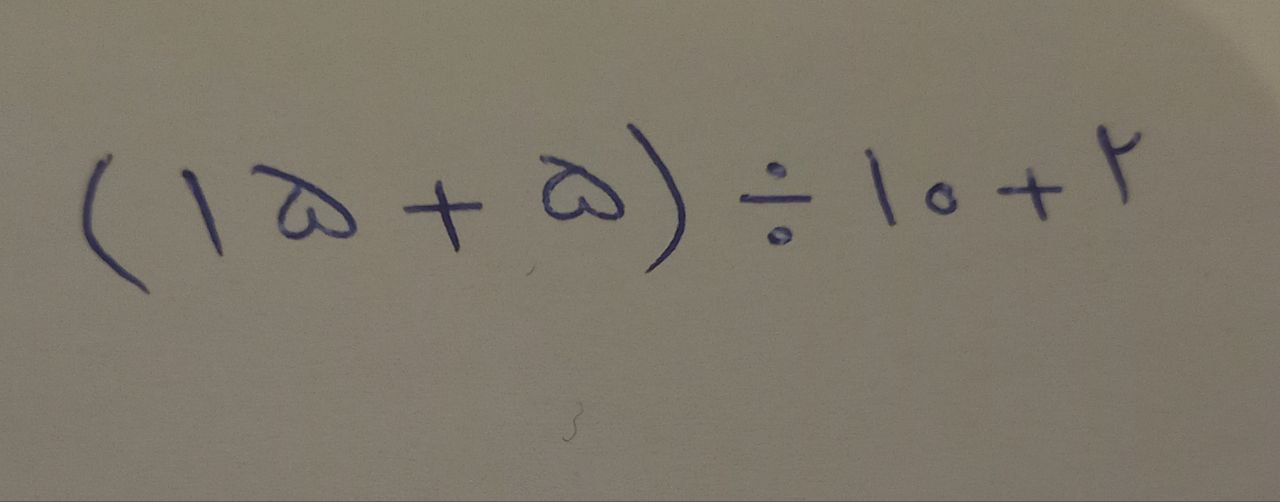character: (80, 153, 155, 301), (628, 121, 688, 277), (249, 165, 358, 244), (740, 162, 819, 255), (536, 155, 626, 225), (402, 181, 490, 252), (1097, 124, 1146, 208), (181, 168, 225, 261), (996, 168, 1060, 224), (864, 146, 900, 224), (926, 179, 957, 216)
